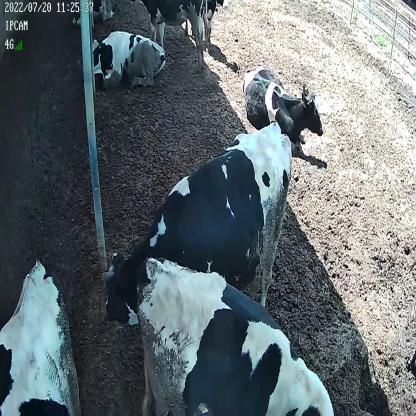cow: (99, 120, 296, 350), (135, 256, 336, 416), (240, 63, 326, 151), (131, 0, 206, 76), (77, 30, 168, 92)
